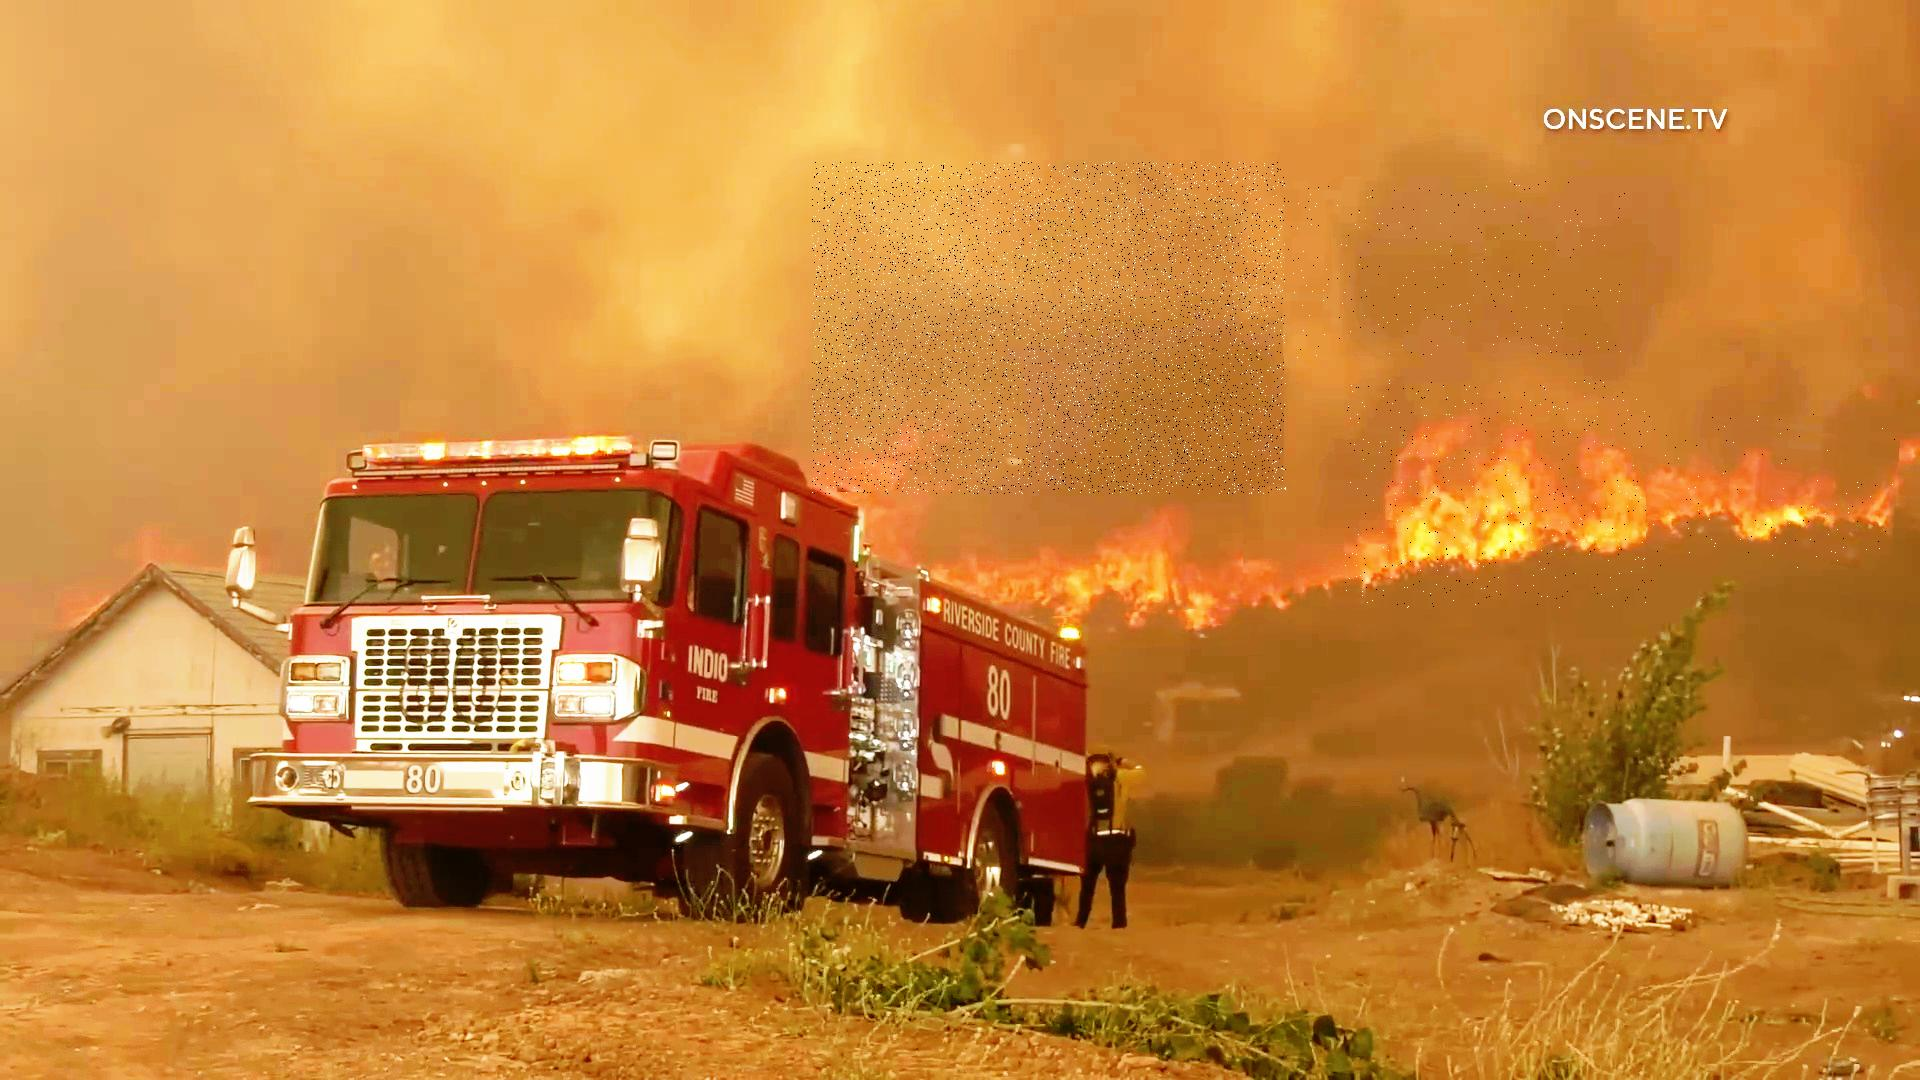fire: (1345, 381, 1652, 608), (1648, 413, 1903, 570), (1017, 504, 1246, 618)
smoke: (812, 162, 1287, 495), (1286, 182, 1627, 359)
